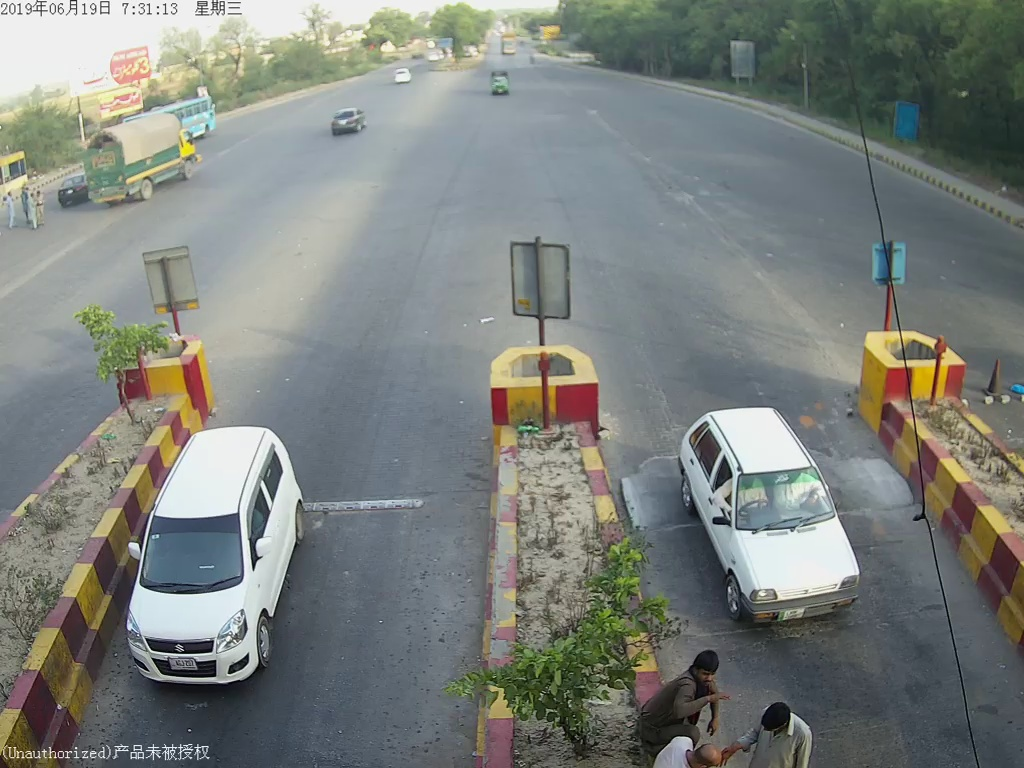Cat-1: (673, 388, 882, 634), (131, 434, 319, 702)
